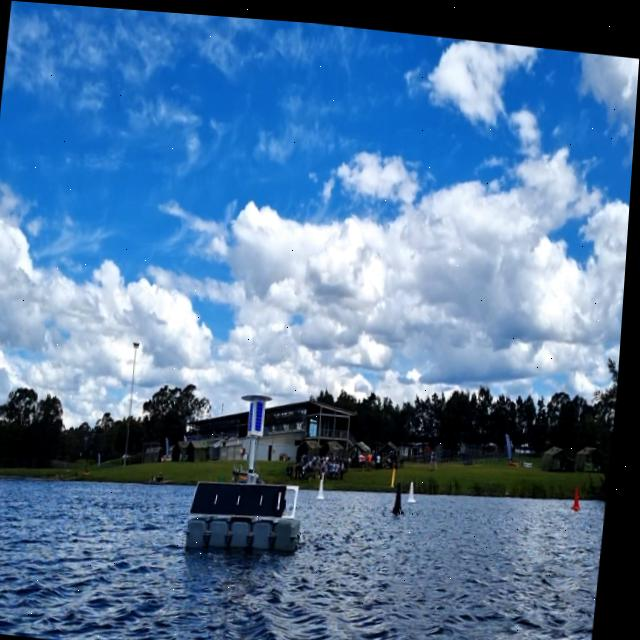led: (253, 393, 271, 431), (257, 394, 270, 429), (252, 396, 260, 428)
